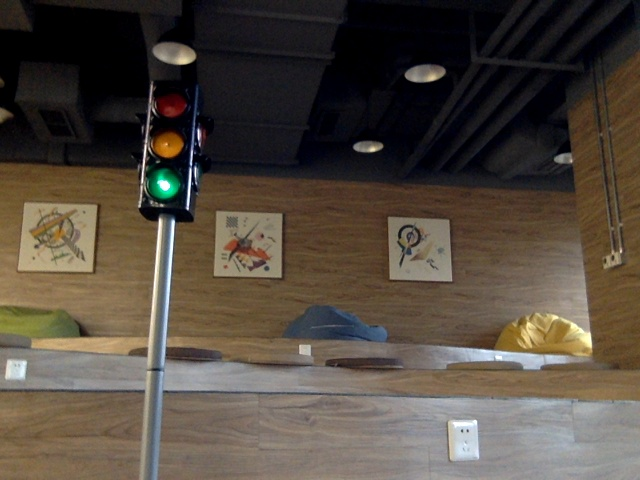green: (151, 76, 187, 204)
